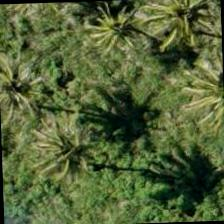Kelapa_Sawit: (7, 102, 100, 196), (70, 0, 163, 67), (0, 39, 57, 132), (143, 0, 223, 58)
